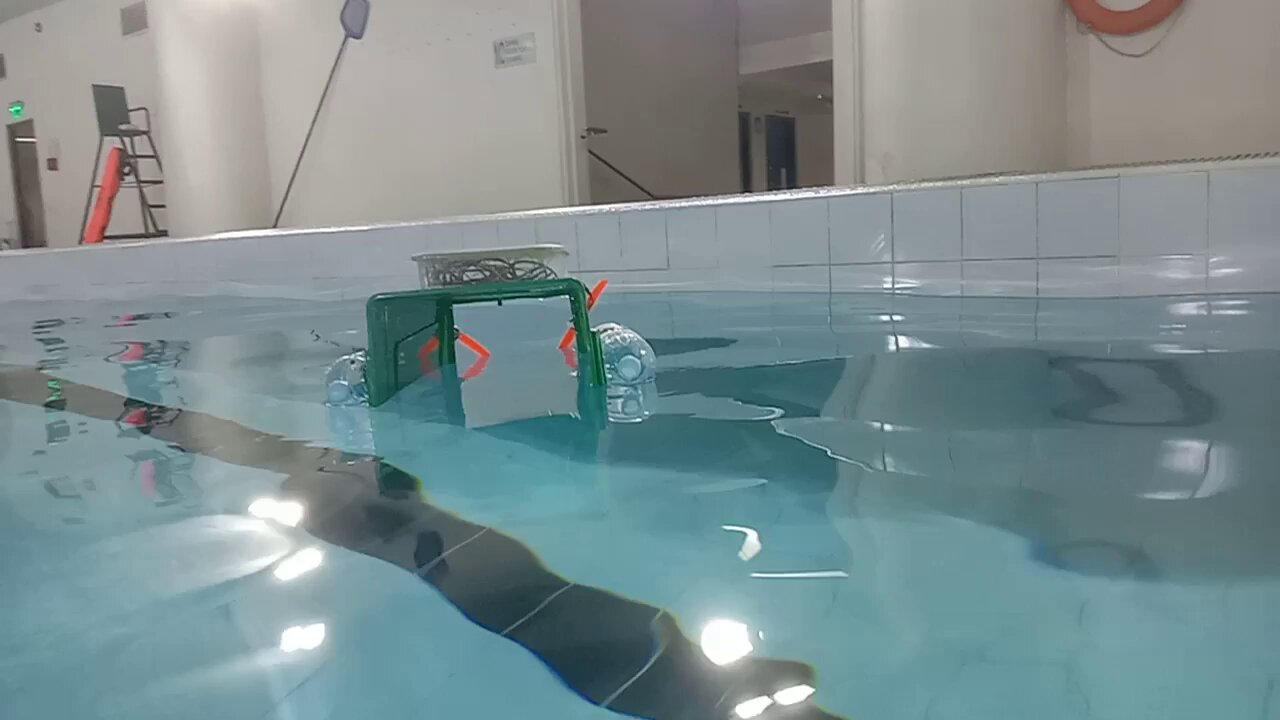drone: (324, 241, 659, 407)
